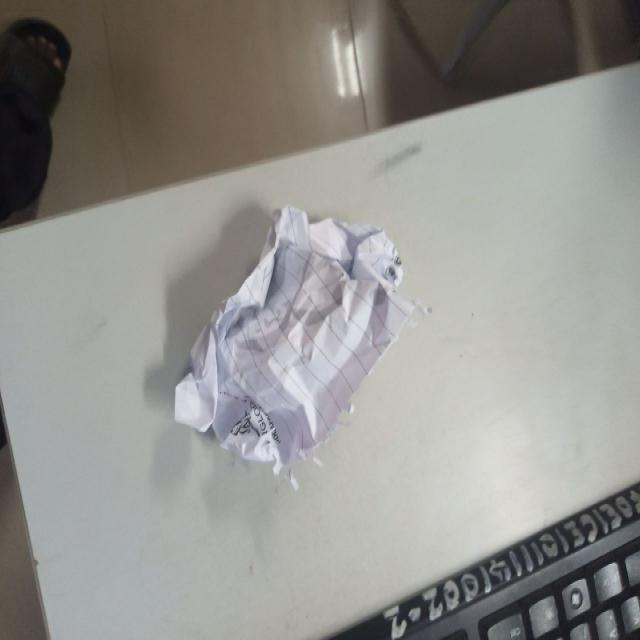Paper: (174, 207, 431, 477)
